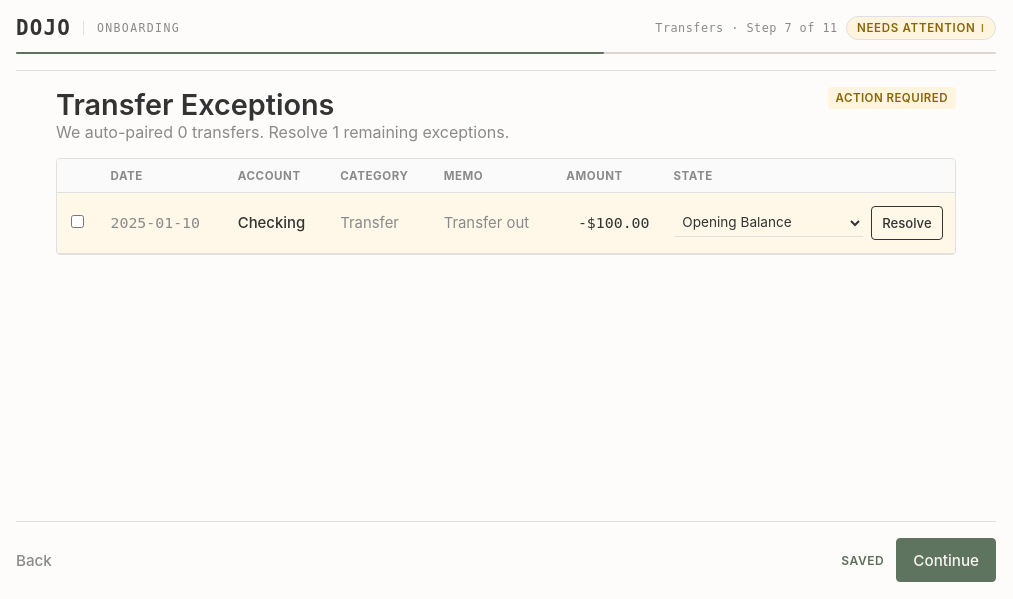
Test case: Aspire onboarding stepper validation › keeps step 7 blocked until transfer exceptions are resolved
Expected: the text "Step 7 of 11" is shown, [655, 21, 837, 35]
Click the button "Continue": click(946, 560) [896, 538, 996, 582]
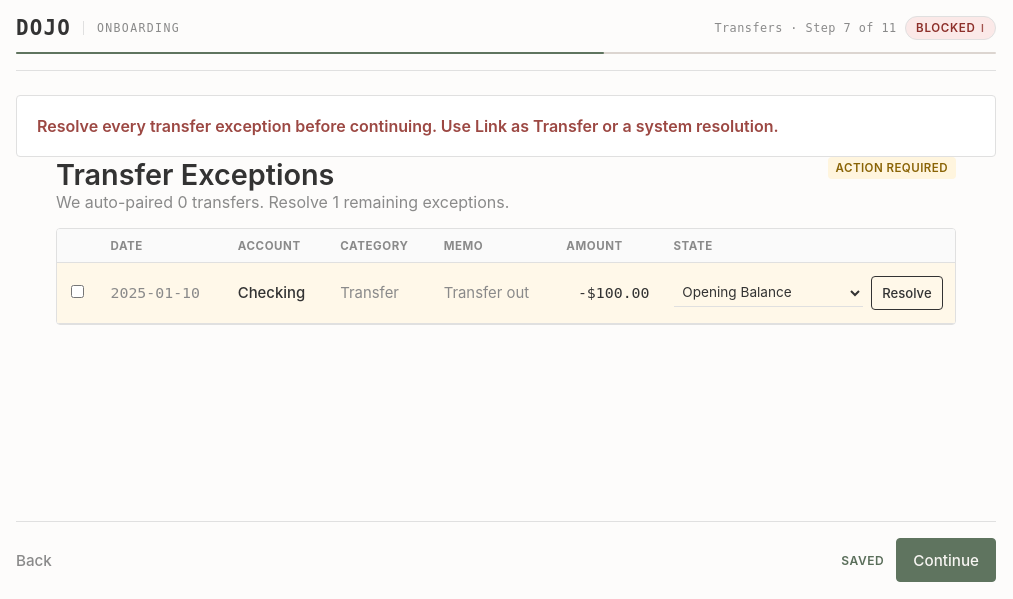
Expected: the text "Step 7 of 11" is shown, [714, 21, 896, 35]
Now the text "Resolve every transfer exception before continuing. Use Link as Transfer or a system resolution." is shown, box [37, 116, 779, 136]
